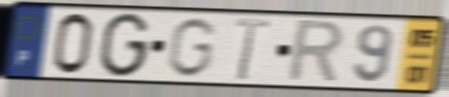0: (51, 11, 97, 76)
9: (350, 23, 396, 85)
G: (96, 11, 153, 80), (164, 16, 219, 80)
R: (284, 18, 348, 87)
T: (232, 16, 273, 83)
